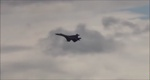maybay_muctieu: (56, 30, 82, 44)
